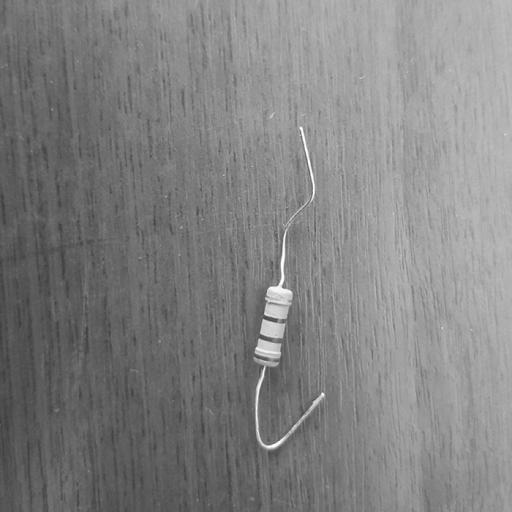RESISTOR: (230, 248, 318, 404)
